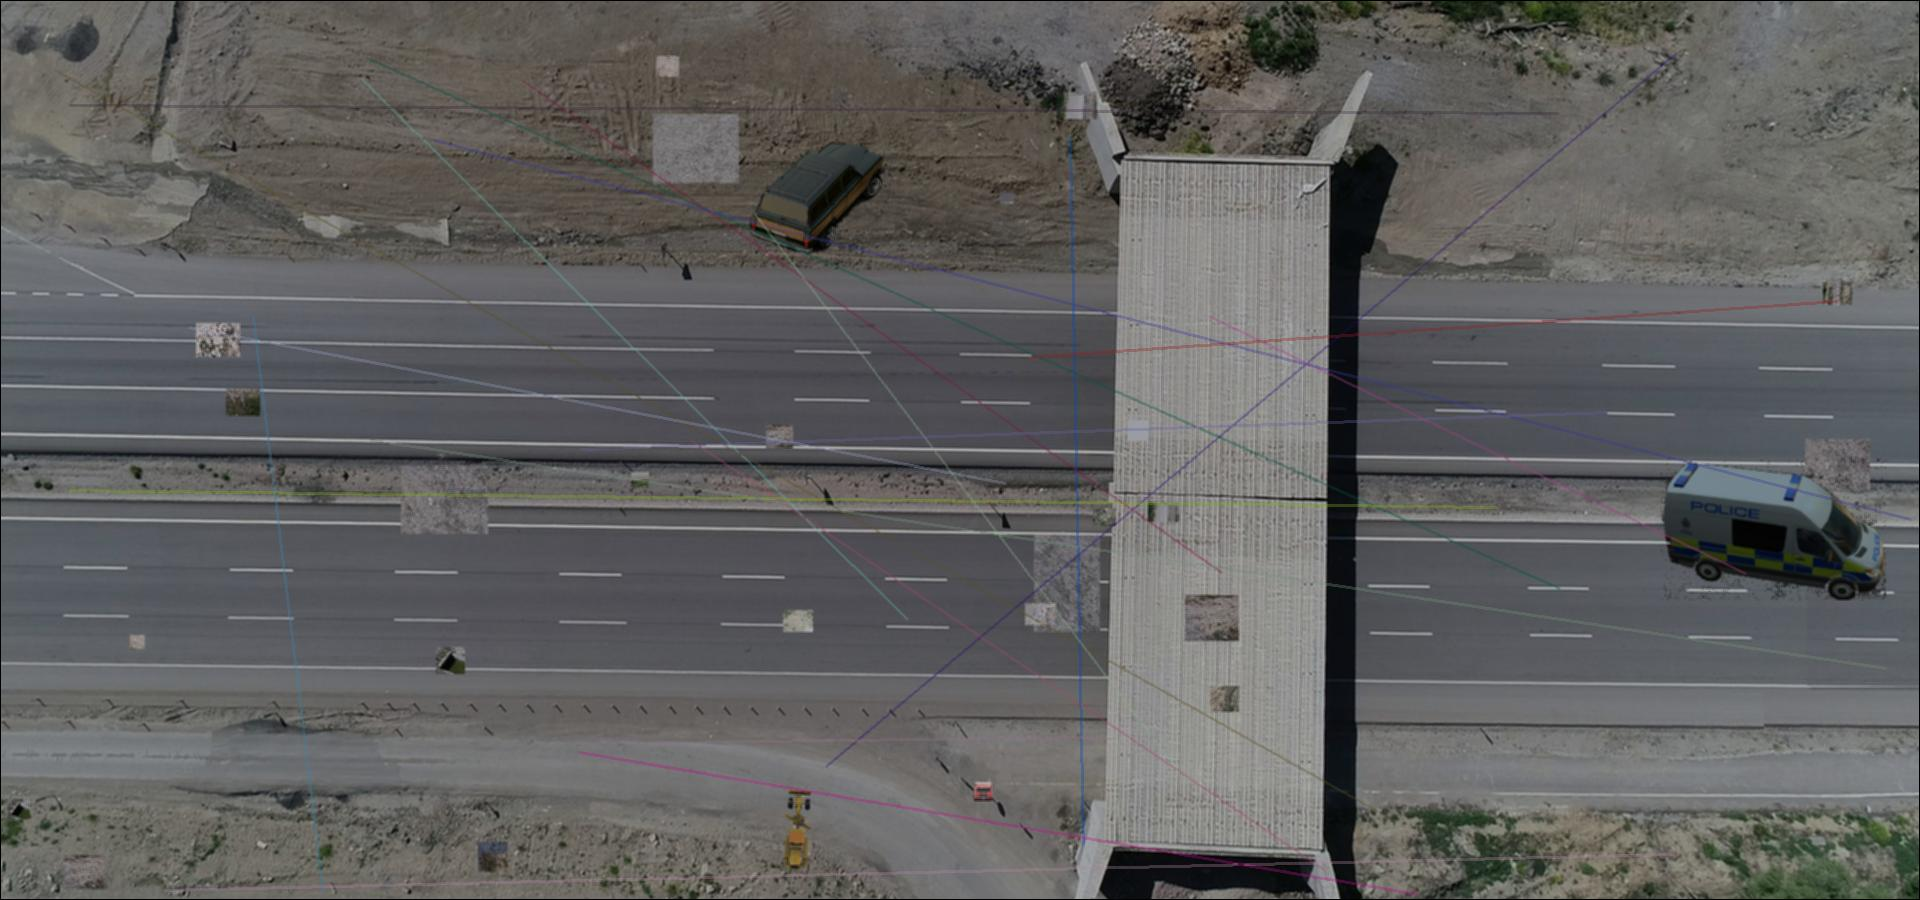arac: (1660, 459, 1886, 600), (749, 140, 888, 257), (782, 789, 813, 869), (971, 780, 994, 801)
